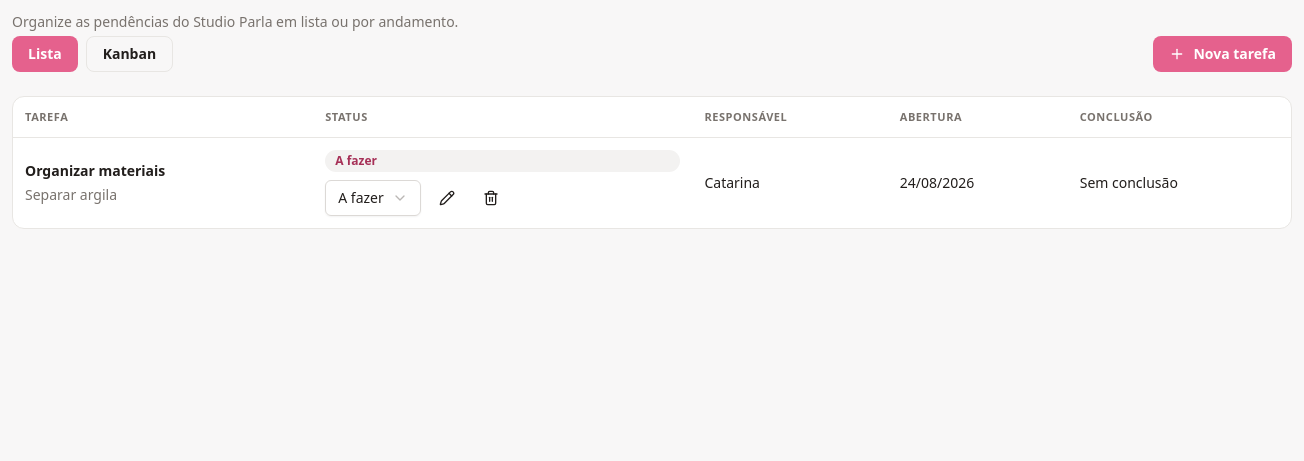
Scenario: TarefasPage › renderiza Lista móvel e Kanban com semântica completa
The width and height of the screenshot is (1304, 461).
Click the button "Kanban" at (129, 54), box [86,36,173,72]
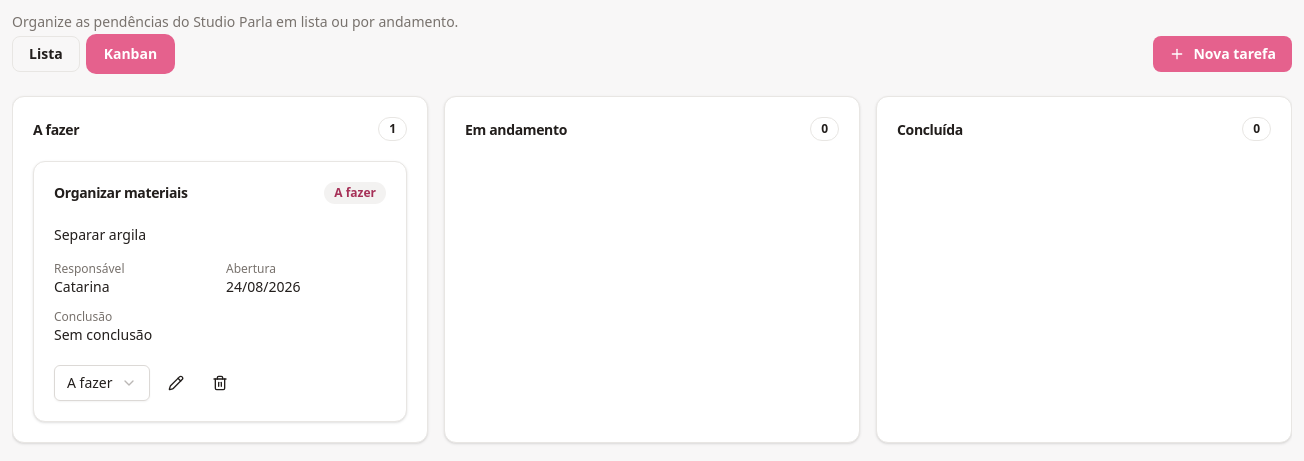
Check: the heading "A fazer" is shown, box [33,118,79,140]
Check: the heading "Em andamento" is shown, box [465,118,567,140]
Check: the heading "Concluída" is shown, box [897,118,963,140]
